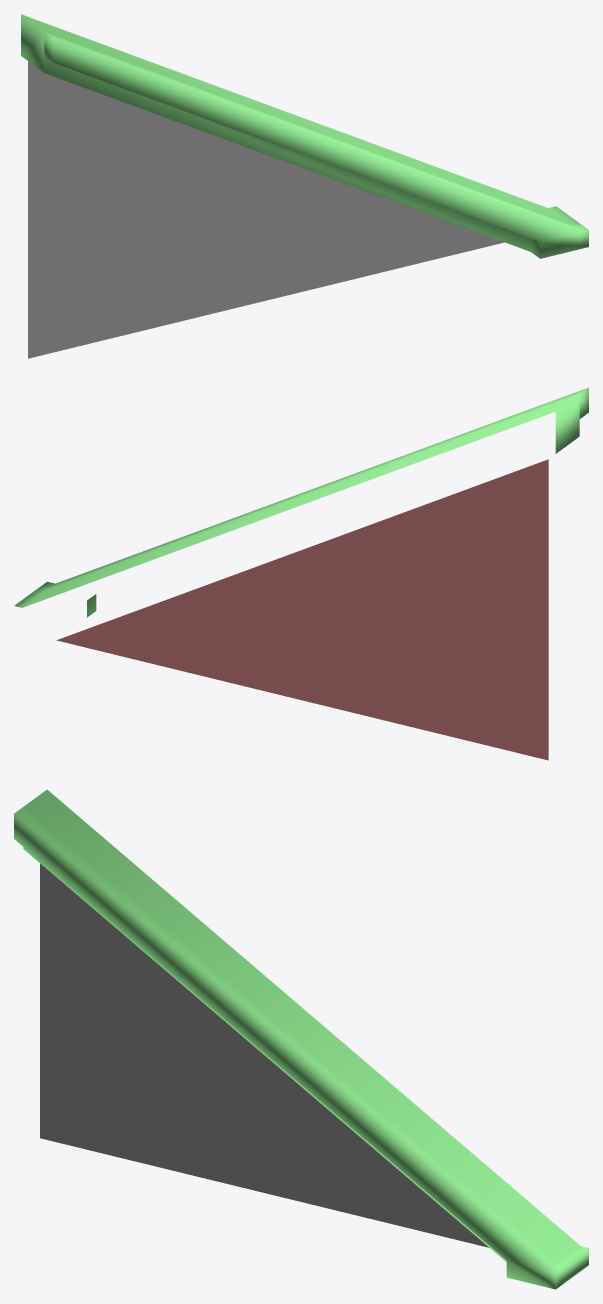
Rendered from SM_roof_03_ending.gltf.
3 views of the same model, one above another, from view 1: azimuth 30°, elevation 25°; view 2: azimuth 150°, elevation 25°; view 3: azimuth 330°, elevation 25° (orthographic).
Visible parts, largest first — view 1: SM_roof_03_ending; view 2: SM_roof_03_ending; view 3: SM_roof_03_ending.
Boxes of the visible parts, <box> form: SM_roof_03_ending: <box>21,14,588,358</box>; SM_roof_03_ending: <box>14,387,588,760</box>; SM_roof_03_ending: <box>14,789,588,1289</box>.
Bounding box in the file's own units: 6.6 × 4 × 0.85.
